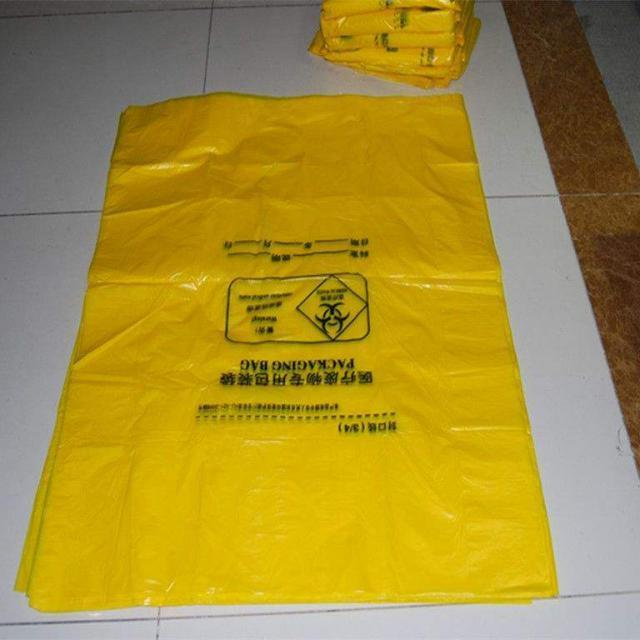waste: (32, 97, 552, 604), (304, 0, 482, 84)
